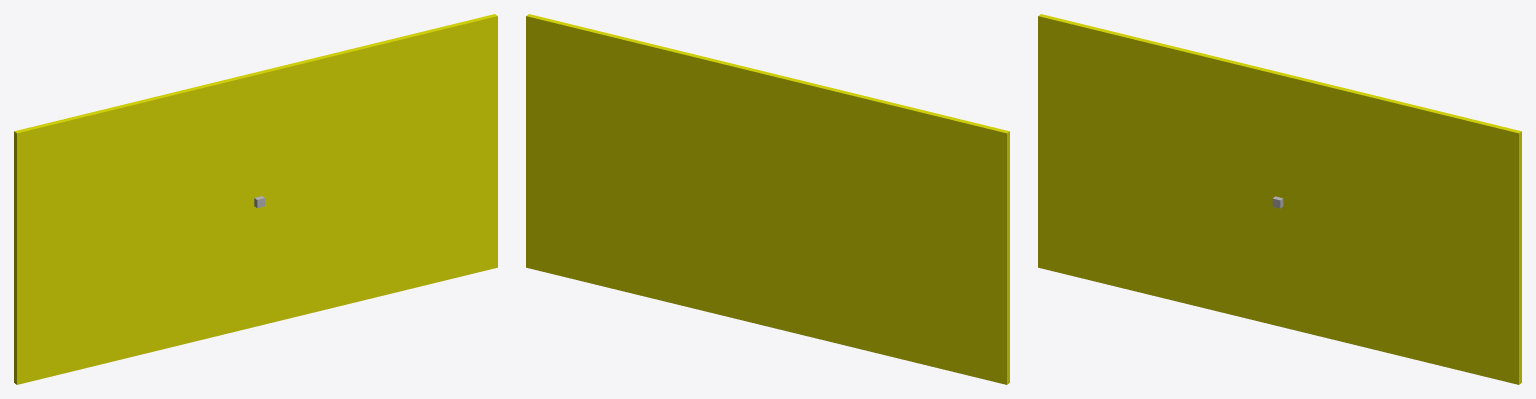
File: WheelTaskWallColor.dae
3 views of the same model, side by side, from view 1: azimuth 30°, elevation 25°; view 2: azimuth 150°, elevation 25°; view 3: azimuth 330°, elevation 25° (orthographic).
Visible parts, largest first — view 1: WHEELTASK_003; view 2: WHEELTASK_003; view 3: WHEELTASK_003.
Boxes of the visible parts, box(x1,y1,x2,y2) form: WHEELTASK_003: box(14, 14, 497, 384); WHEELTASK_003: box(526, 14, 1009, 384); WHEELTASK_003: box(1038, 14, 1521, 384).
Bounding box in the file's own units: 122 × 2.53 × 60.96.
